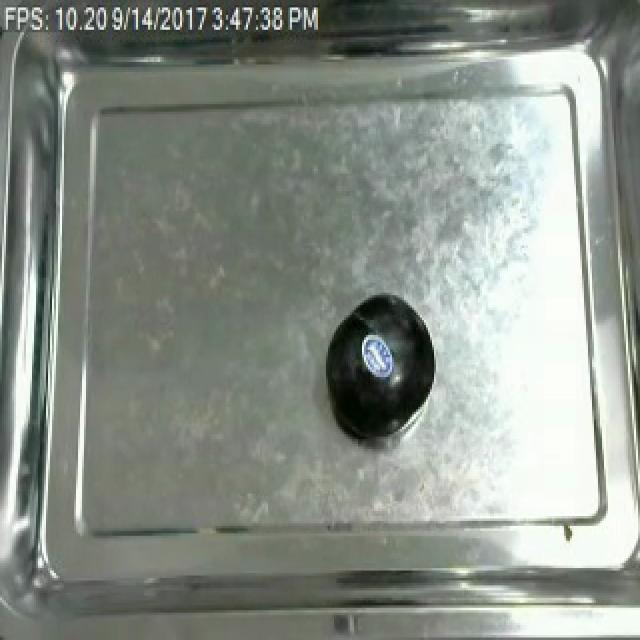Fruit: (320, 283, 442, 444)
